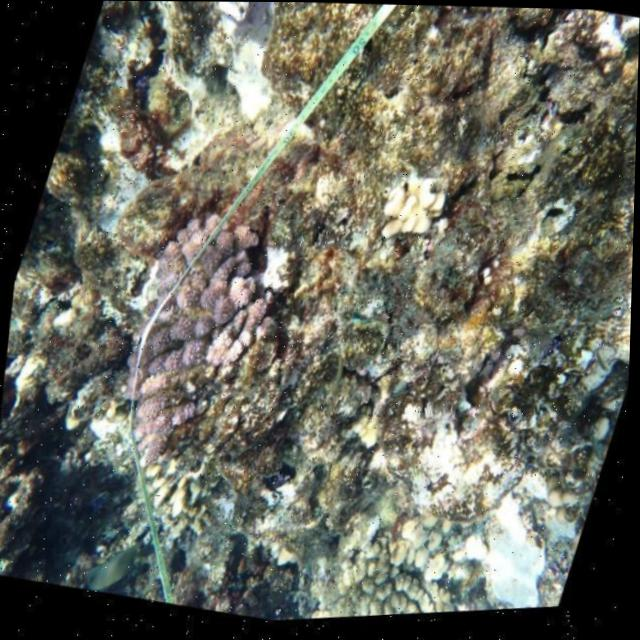Bleached Coral: (433, 466, 585, 622), (171, 1, 306, 153), (381, 403, 506, 536), (365, 162, 459, 263), (242, 231, 303, 312)
Healthy Coral: (133, 191, 243, 469)
